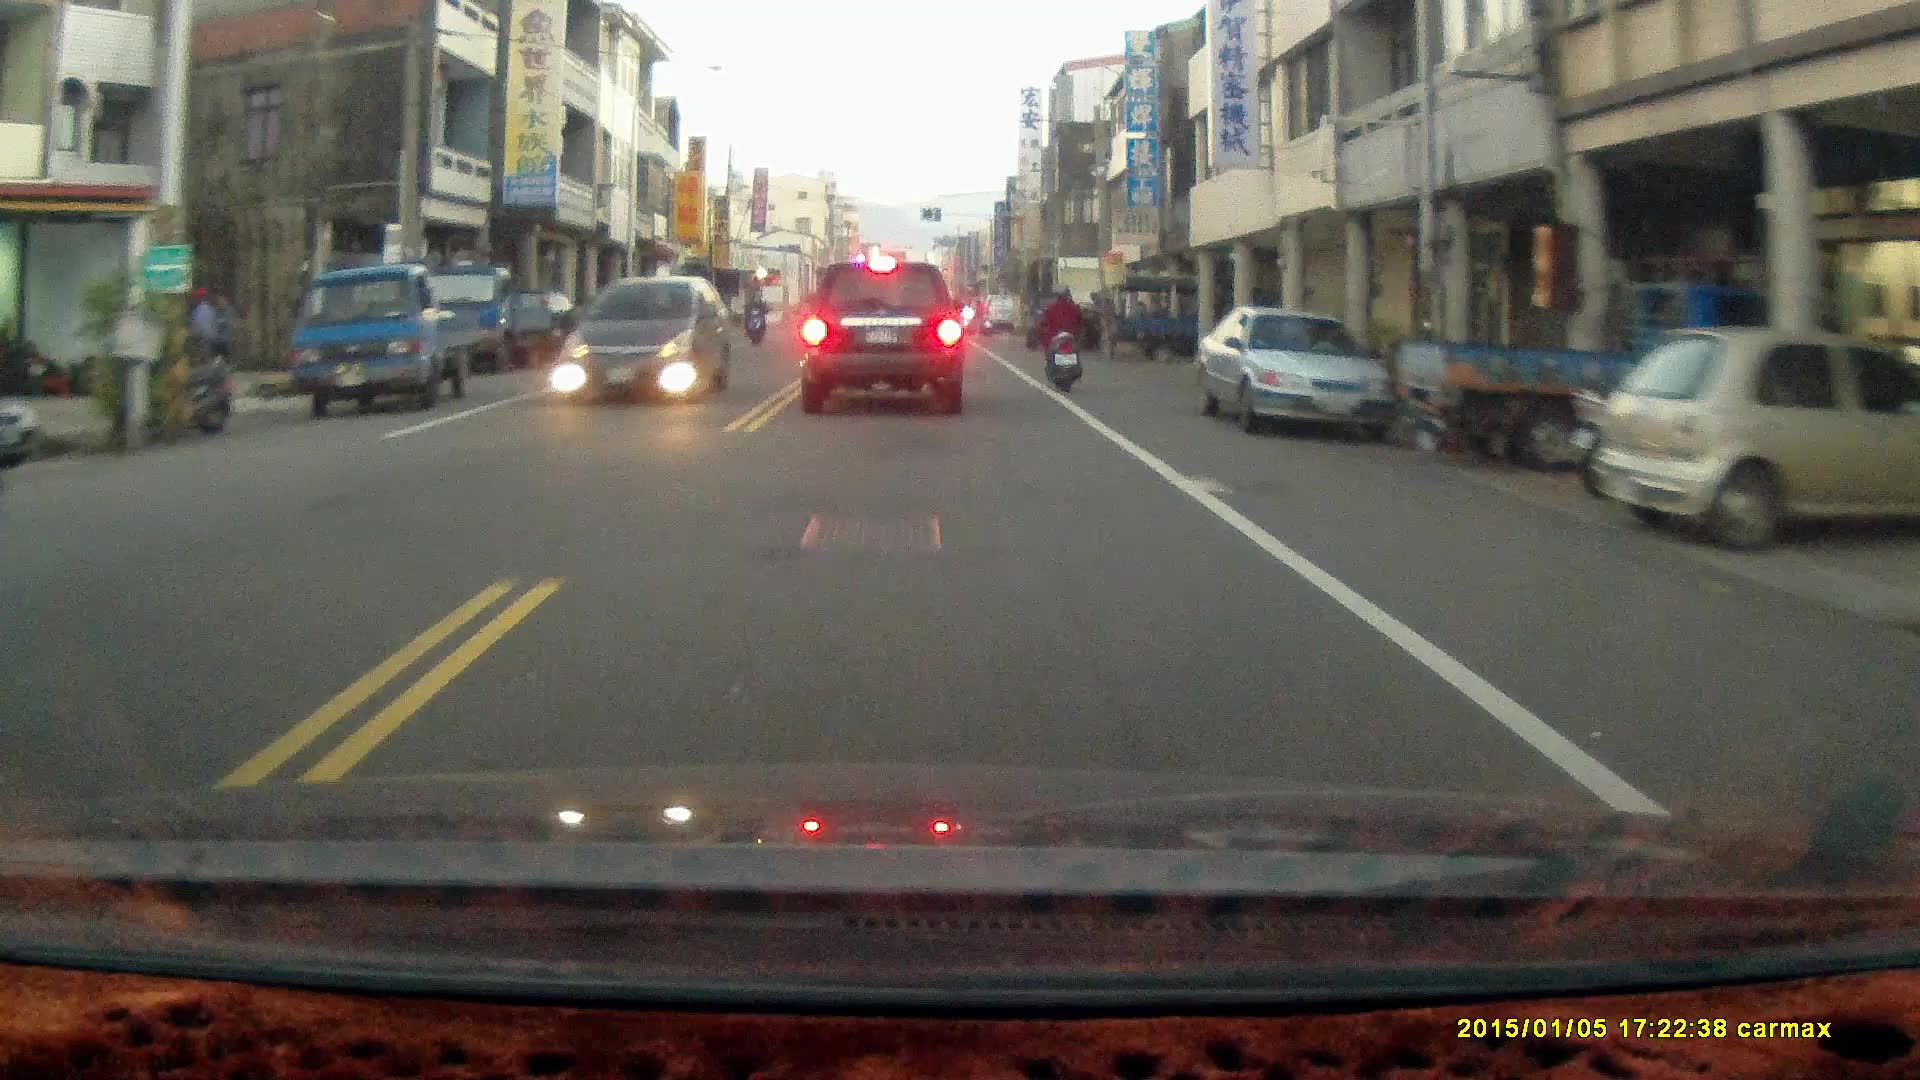pedestrian: (186, 284, 214, 386), (211, 290, 240, 385)
rider: (1038, 281, 1083, 392), (963, 296, 996, 338), (741, 294, 768, 346)
vehicle: (1591, 323, 1920, 558), (1412, 275, 1796, 472), (296, 265, 489, 422), (795, 257, 968, 421), (1198, 310, 1396, 439), (564, 278, 731, 409), (413, 260, 565, 376), (1114, 273, 1271, 361)
